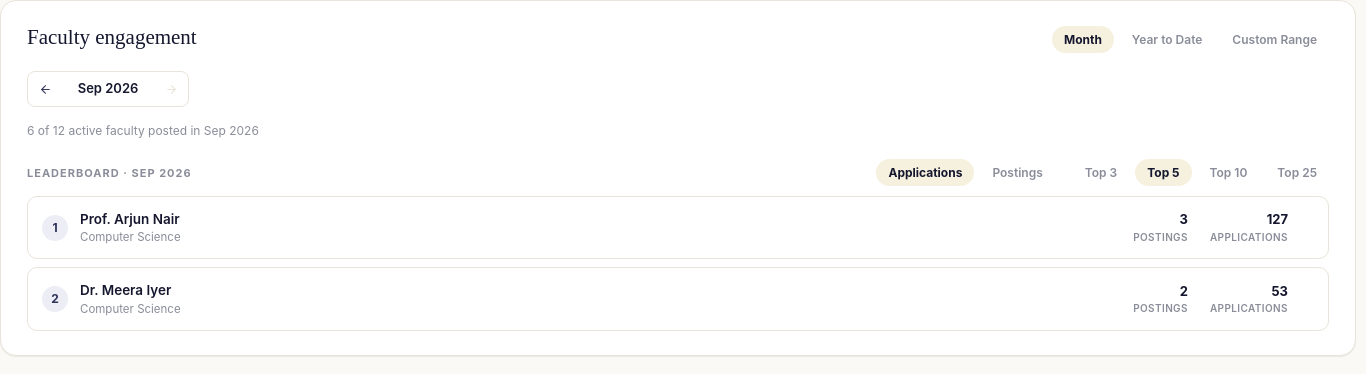
Test: FacultyEngagement › steps the month picker backward/forward, disabling forward at the most recent month
Check: the text "Prof. Arjun Nair" is shown, box [80,211,180,227]
Check: the button named "Later month" is disabled, box [156,74,186,104]
Step 1. Click the button named "Earlier month" → x=45, y=89, box [30,74,60,104]
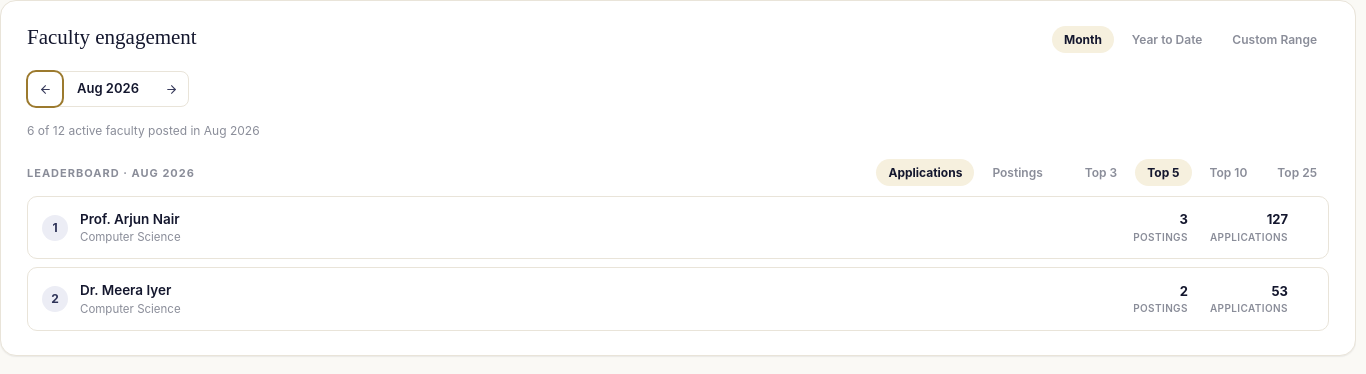
Check: the button named "Later month" is enabled, box [156,74,186,104]
